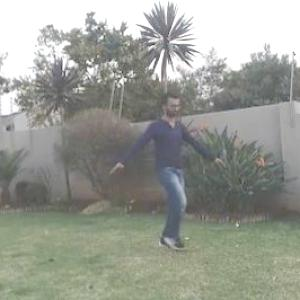land: (93, 72, 213, 270)
